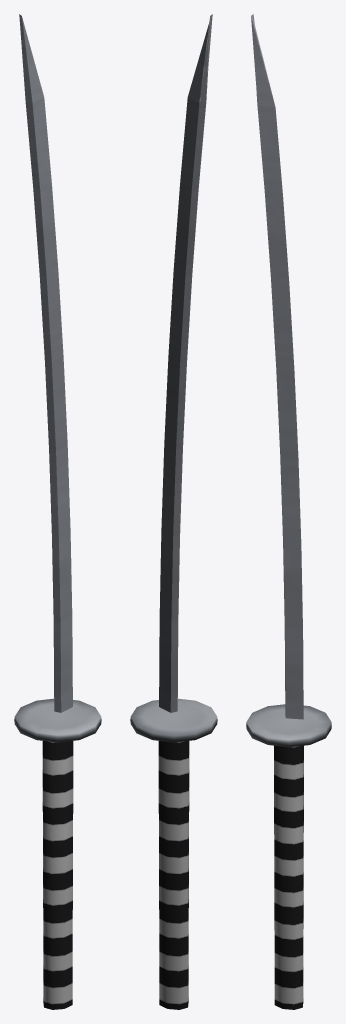
Rendered from katana.glb.
3 views of the same model, side by side, from view 1: azimuth 30°, elevation 25°; view 2: azimuth 150°, elevation 25°; view 3: azimuth 330°, elevation 25° (orthographic).
Parts seen in each view (by area): view 1: katana; view 2: katana; view 3: katana.
Part boxes in pixels (left/top/right/bottom): katana: left=14, top=14, right=101, bottom=1009; katana: left=130, top=14, right=217, bottom=1009; katana: left=246, top=14, right=331, bottom=1009.
Size of the model in its own units: 0.0808 by 1.02 by 0.0808.
1 material, 1 textured.
